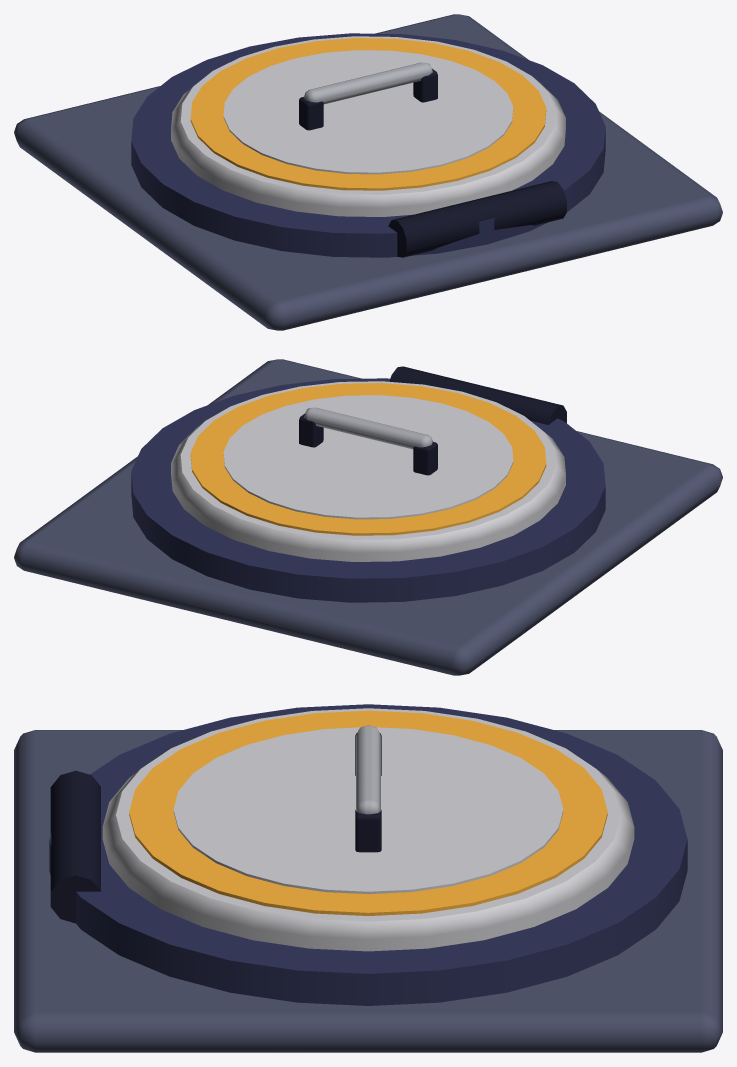
The model's file is roof.small.hatch.glb.
3 renders of one model, top to bottom at view 1: azimuth 30°, elevation 25°; view 2: azimuth 150°, elevation 25°; view 3: azimuth 270°, elevation 25°, orthographic. The views are drawn at different scales.
Parts seen in each view (by area): view 1: roof.small.hatch; view 2: roof.small.hatch; view 3: roof.small.hatch.
Part boxes in pixels (x1,y1,x2,y2): roof.small.hatch: (14, 14, 722, 330); roof.small.hatch: (14, 359, 722, 675); roof.small.hatch: (14, 704, 722, 1052).
Bounding box in the file's own units: 0.8 × 0.185 × 0.8.
